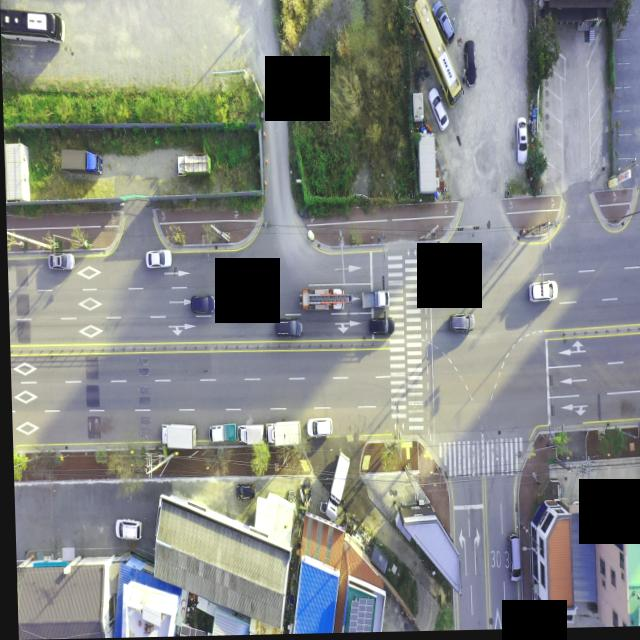car: (432, 5, 454, 47), (428, 87, 447, 131), (461, 42, 477, 90), (111, 518, 140, 541), (527, 283, 555, 305), (516, 118, 529, 165), (507, 537, 520, 583), (188, 295, 214, 317), (235, 296, 262, 316), (305, 418, 332, 438), (48, 253, 74, 272), (448, 313, 472, 333), (367, 319, 392, 338), (274, 318, 300, 336), (145, 251, 169, 270), (509, 602, 520, 631), (235, 484, 254, 500)
large_bus: (413, 0, 464, 104), (0, 7, 69, 56)
medium_truck: (321, 451, 353, 520), (298, 285, 347, 315), (61, 144, 102, 179), (263, 415, 301, 452), (159, 422, 197, 450)
small_truck: (235, 419, 264, 446), (176, 155, 211, 175), (205, 423, 236, 445), (360, 290, 387, 308)
